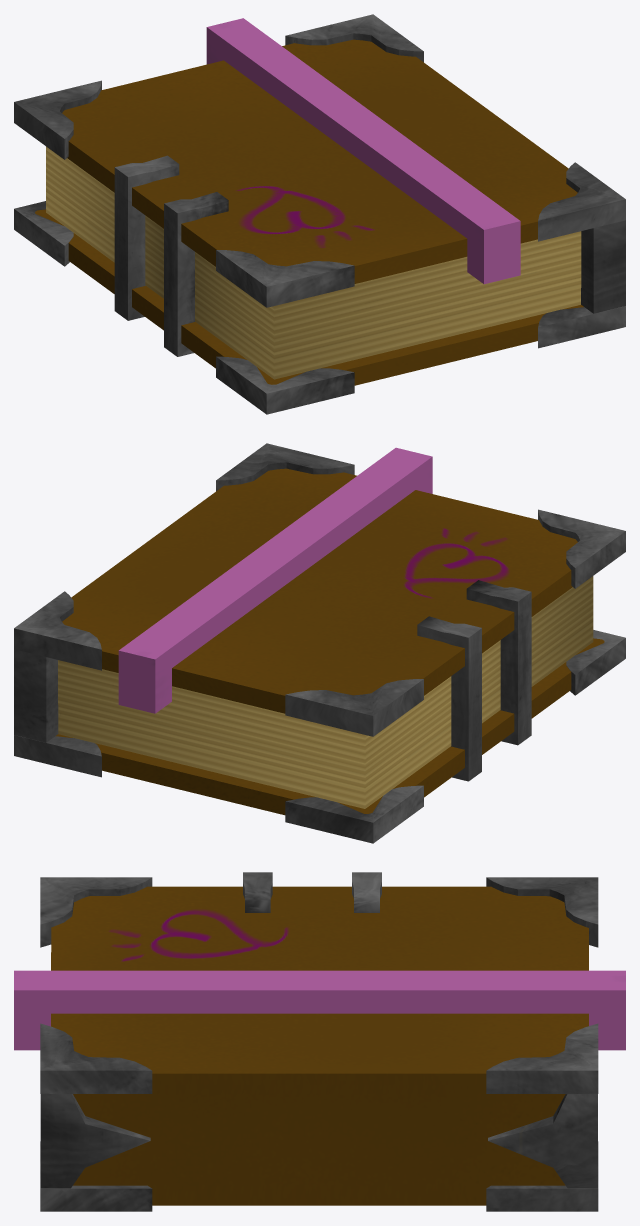
The model's file is Book.fbx.
The picture shows the model from 3 angles, top to bottom: view 1: azimuth 30°, elevation 25°; view 2: azimuth 150°, elevation 25°; view 3: azimuth 270°, elevation 25°; orthographic projection. The views are drawn at different scales.
Visible parts, largest first — view 1: Book; view 2: Book; view 3: Book.
Boxes of the visible parts, x1,y1,x2,y2 form: Book: (14,14,625,414); Book: (14,443,625,843); Book: (14,872,625,1211).
Bounding box in the file's own units: 83.88 × 33.39 × 109.
Materials: 1 (1 with a texture image).
